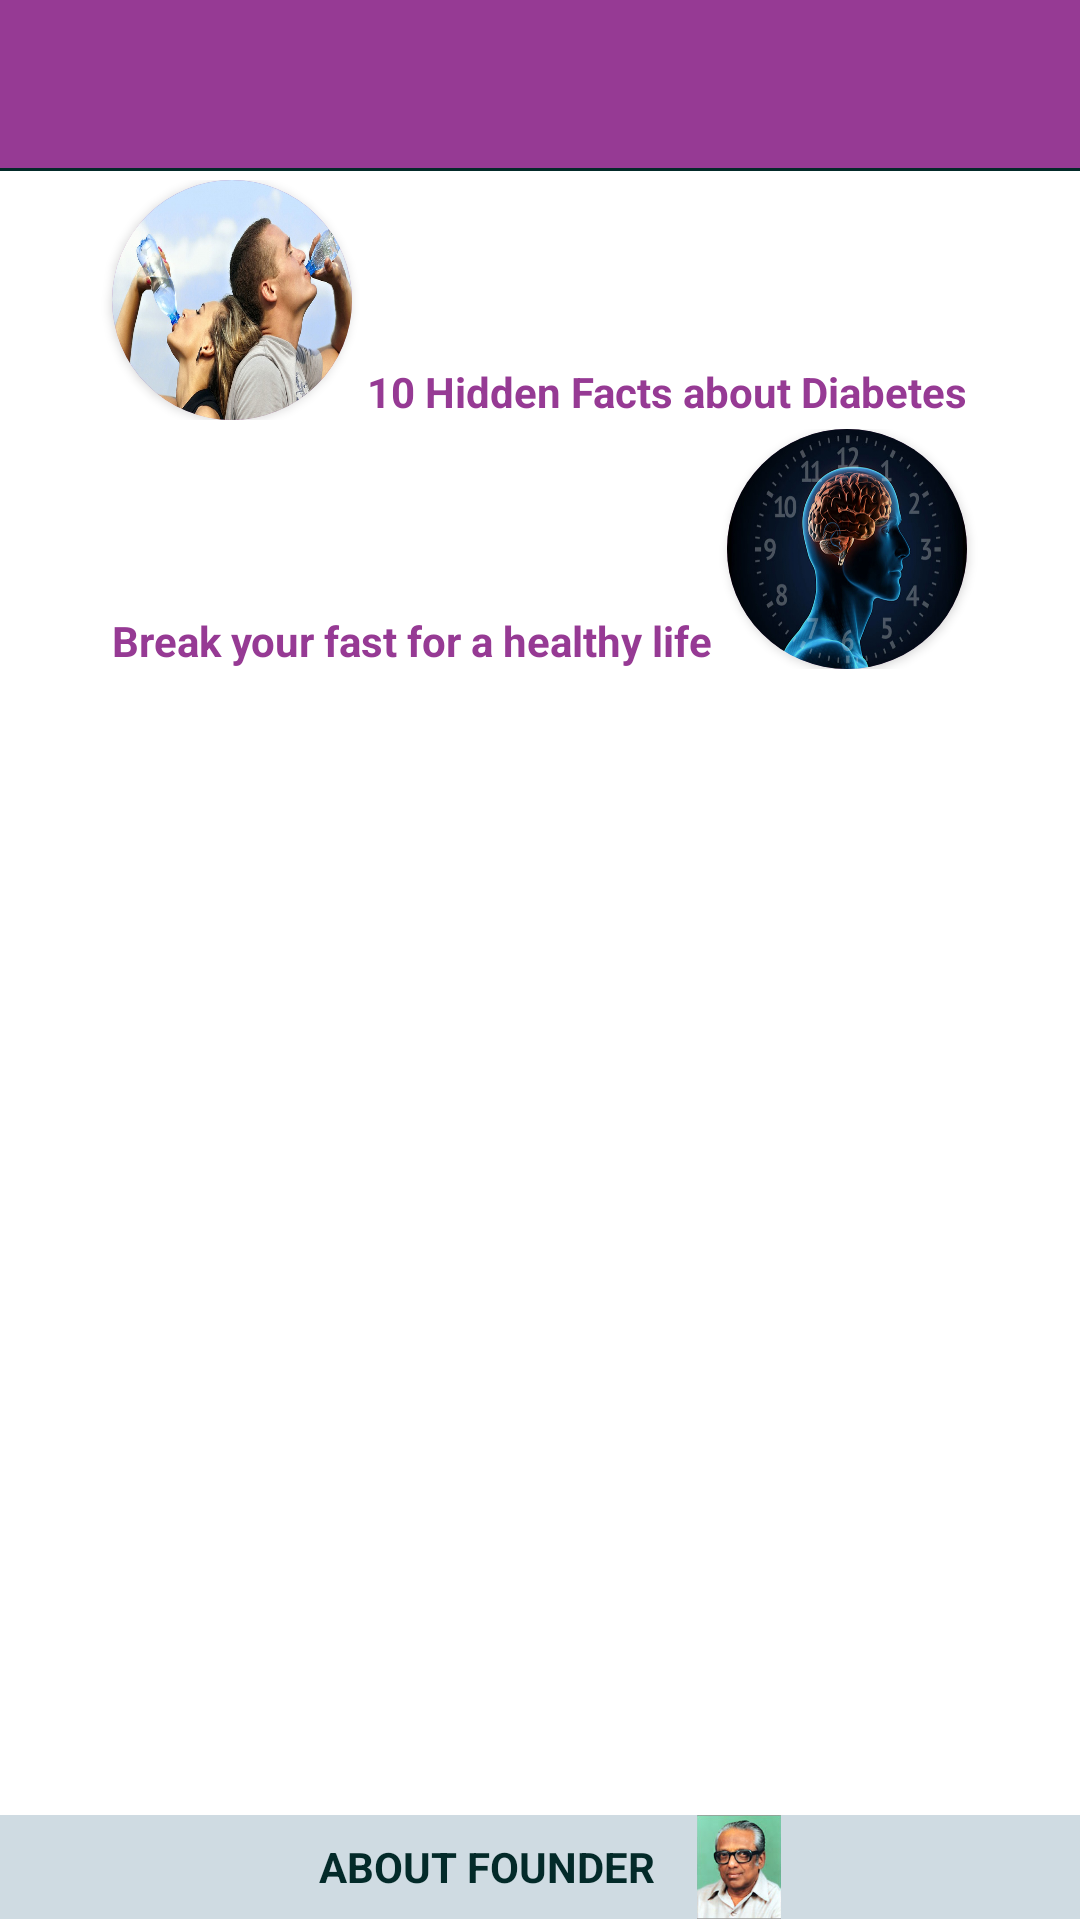

Named icons in this screenshot (1080x1920) and their centers, (x,y):
user: (739,1867)
